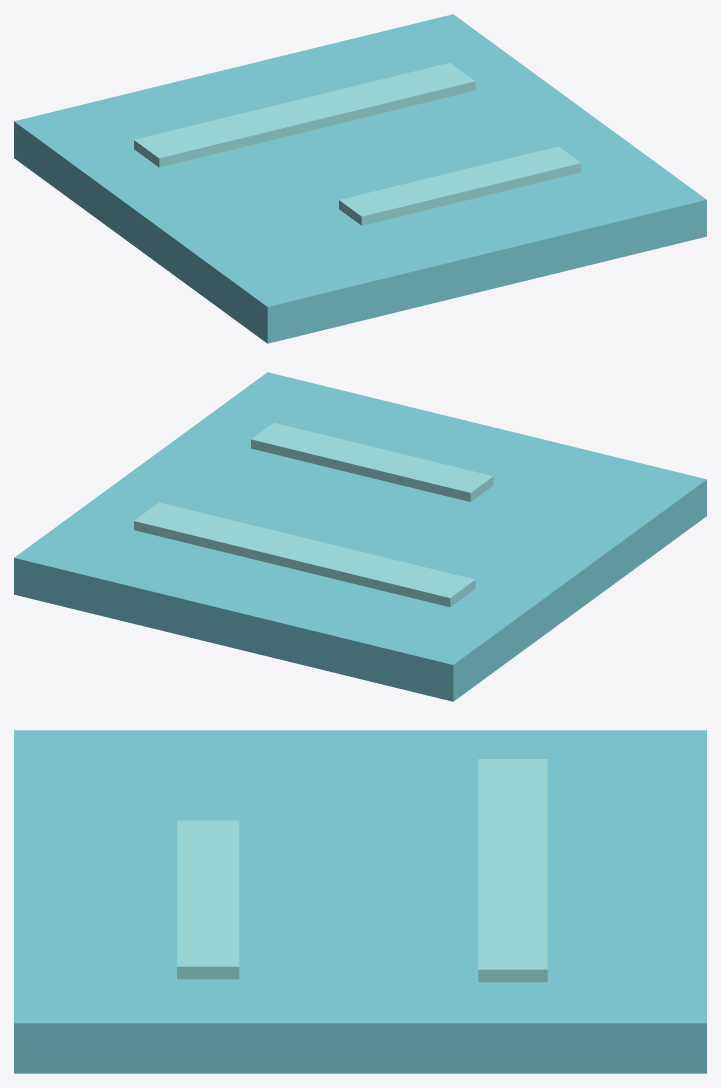
Rendered from Water_Tile.glb.
3 views of the same model, one above another, from view 1: azimuth 30°, elevation 25°; view 2: azimuth 150°, elevation 25°; view 3: azimuth 270°, elevation 25° (orthographic). The views are drawn at different scales.
Visible parts, largest first — view 1: water_0, wave1_1, wave2_2; view 2: water_0, wave1_1, wave2_2; view 3: water_0, wave1_1, wave2_2.
Part boxes in pixels (<box>): water_0: <box>14,14,706,343</box>; wave1_1: <box>134,63,475,167</box>; wave2_2: <box>339,146,581,225</box>; water_0: <box>14,372,706,701</box>; wave1_1: <box>134,502,475,607</box>; wave2_2: <box>251,422,493,501</box>; water_0: <box>14,730,706,1073</box>; wave1_1: <box>478,759,547,982</box>; wave2_2: <box>177,820,239,979</box>.
Size of the model in its own units: 1 by 0.1 by 1.
